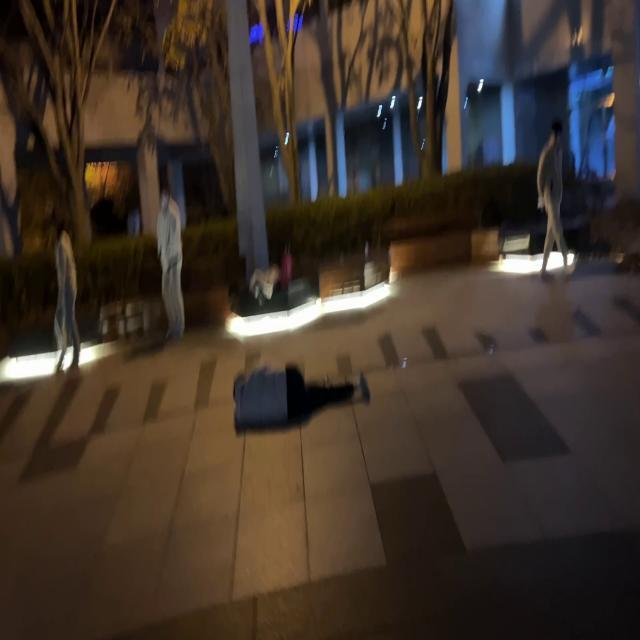Fall: (234, 366, 371, 432)
Stand: (538, 122, 569, 274), (157, 192, 185, 338), (53, 230, 80, 372)
